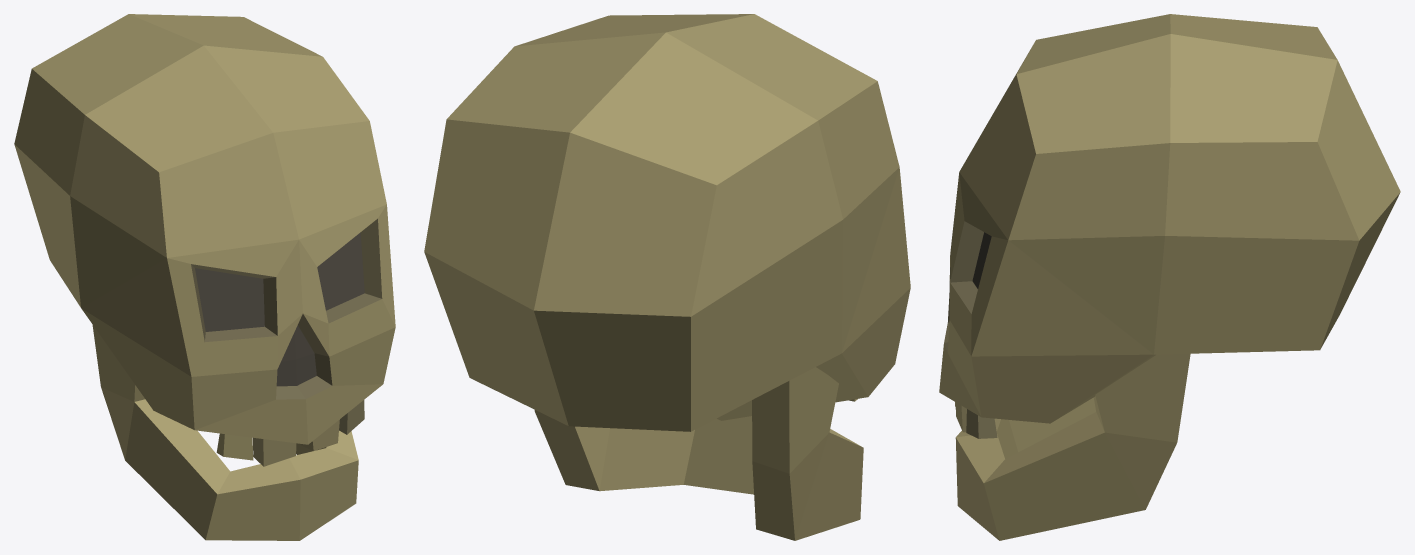
File: Skull_1.fbx
The picture shows the model from 3 angles, left to right: view 1: azimuth 30°, elevation 25°; view 2: azimuth 150°, elevation 25°; view 3: azimuth 270°, elevation 25°; orthographic projection. The views are drawn at different scales.
Visible parts, largest first — view 1: Scull_1; view 2: Scull_1; view 3: Scull_1.
Boxes of the visible parts, <box> form: Scull_1: <box>14,14,395,540</box>; Scull_1: <box>424,14,910,540</box>; Scull_1: <box>939,14,1400,540</box>.
Bounding box in the file's own units: 19.27 × 28.73 × 25.46.
